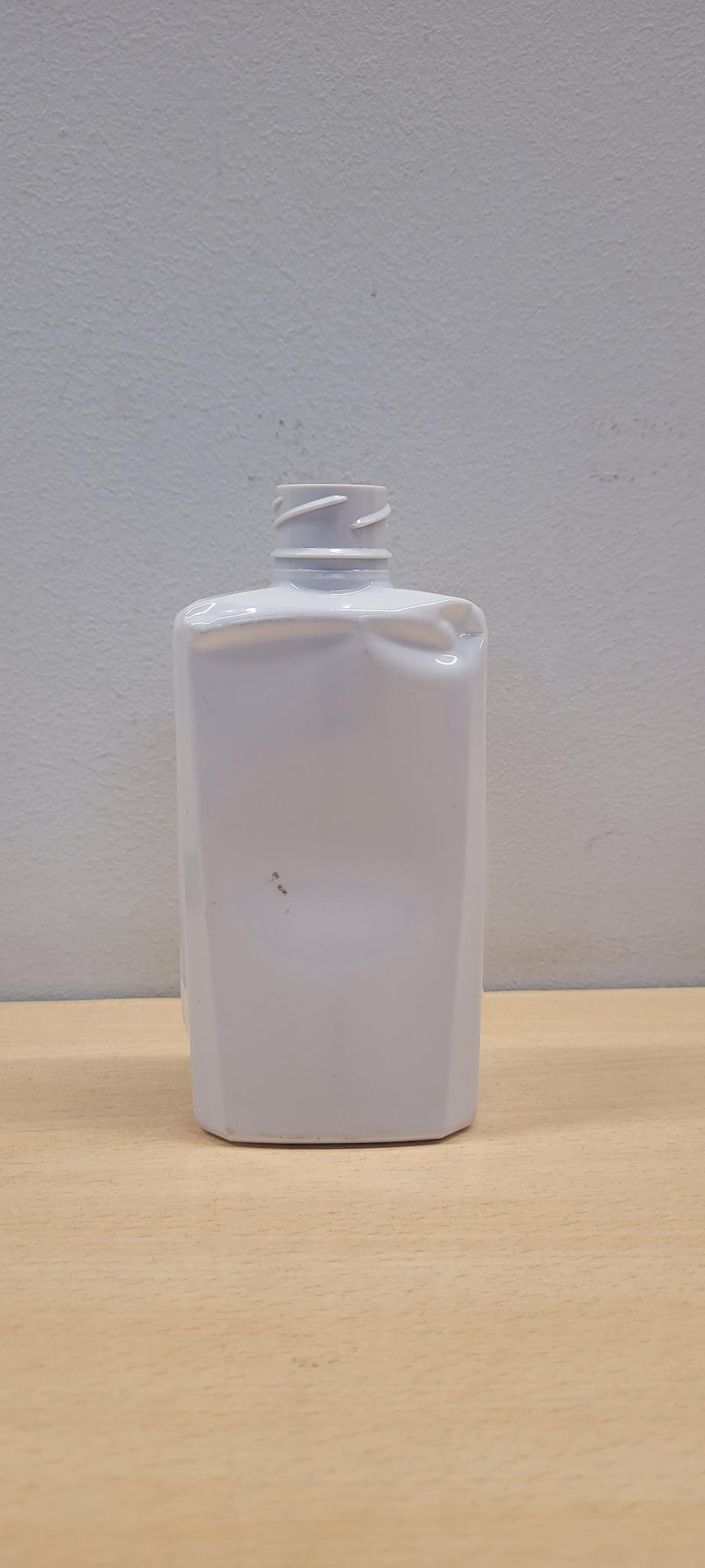bottle: (174, 481, 487, 1145)
